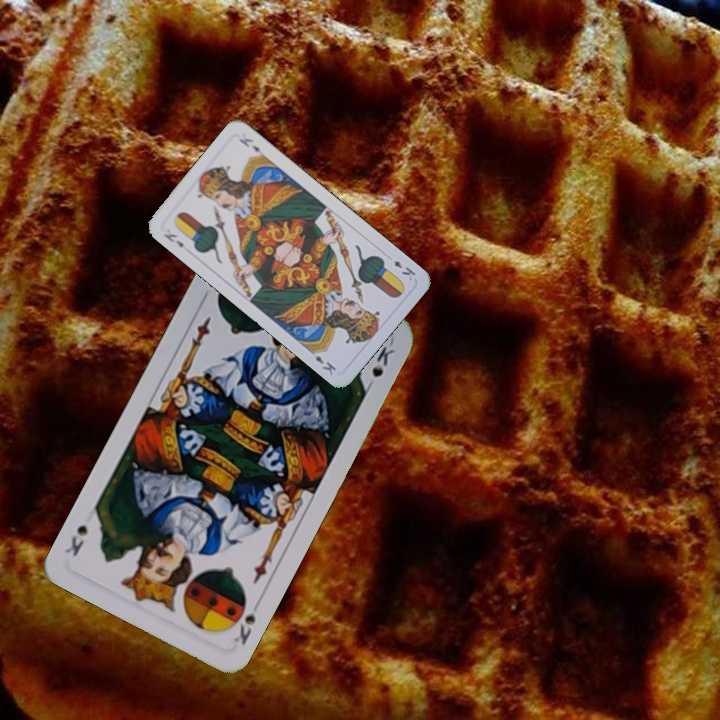EK: (389, 256, 418, 283), (160, 229, 186, 250)
SK: (229, 595, 262, 648)
